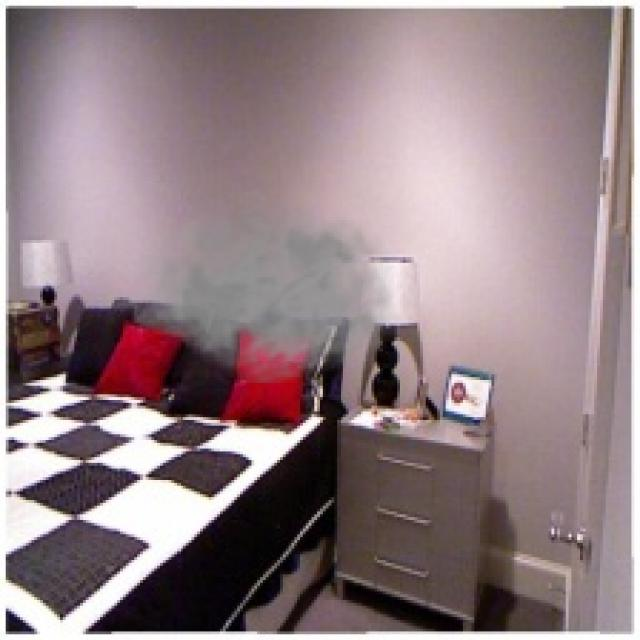smoke: (123, 186, 406, 386)
